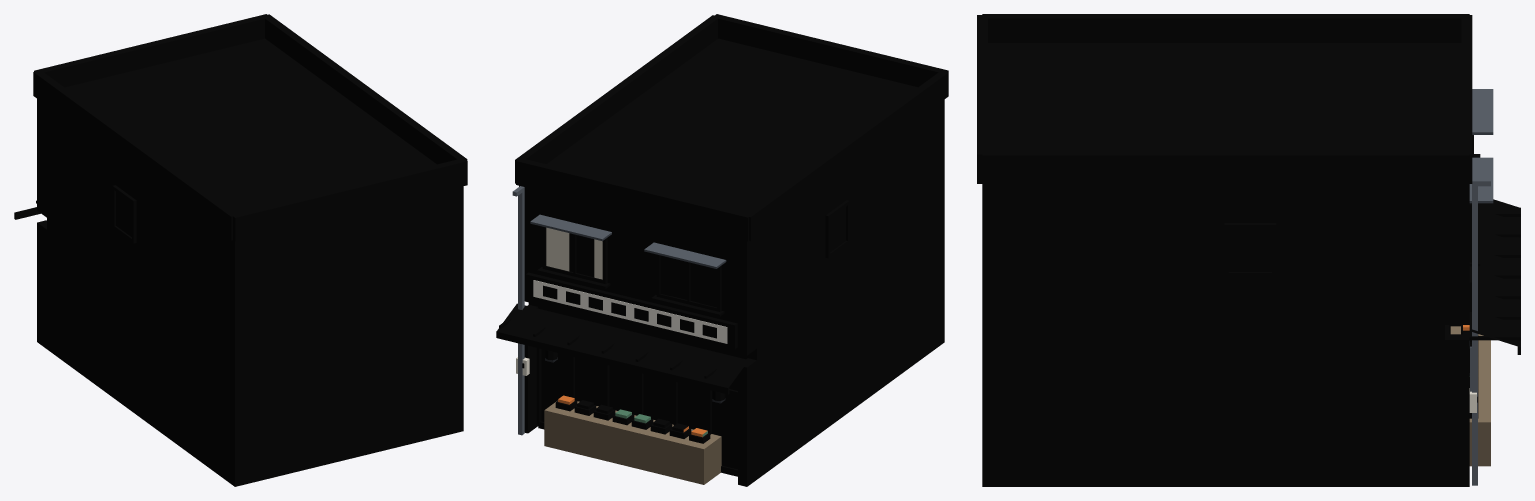
Rendered from Shop_A2.fbx.
The picture shows the model from 3 angles, left to right: view 1: azimuth 30°, elevation 25°; view 2: azimuth 150°, elevation 25°; view 3: azimuth 270°, elevation 25°; orthographic projection. The views are drawn at different scales.
Visible parts, largest first — view 1: RoofTop.007, BodyLow.005, BodyUp.005, Pilasters.004, WinFrame.018, Glass.018; view 2: RoofTop.007, BodyUp.005, BodyLow.005, Geya.003, LitGlassDim.009, ShopStall.002, Pilasters.004, WinFrame.018, SignBand.005, SignFace.004, Hoods.015, ShopFrame.003 (+8 smaller); view 3: RoofTop.007, BodyLow.005, BodyUp.005, Geya.003, Pilasters.004, Pipes.018, ShopStall.002, Glass.018, Hoods.015, WinFrame.018.
Part boxes in pixels (x1,y1,x2,y2): RoofTop.007: (33, 14, 467, 241); BodyLow.005: (47, 218, 463, 486); BodyUp.005: (37, 99, 463, 355); Pilasters.004: (37, 220, 46, 348); WinFrame.018: (112, 185, 136, 243); Glass.018: (116, 192, 131, 236); RoofTop.007: (515, 14, 948, 241); BodyUp.005: (519, 99, 944, 355); BodyLow.005: (528, 211, 944, 479); Geya.003: (496, 303, 748, 394); LitGlassDim.009: (541, 233, 737, 469); ShopStall.002: (544, 400, 721, 484); Pilasters.004: (524, 305, 756, 486); WinFrame.018: (537, 200, 849, 316); SignBand.005: (525, 272, 737, 349); SignFace.004: (533, 280, 727, 343); Hoods.015: (530, 214, 726, 268); ShopFrame.003: (536, 348, 737, 476); RoofTop.007: (977, 14, 1472, 185); BodyLow.005: (982, 325, 1444, 486); BodyUp.005: (982, 185, 1469, 324); Geya.003: (1469, 199, 1520, 354); Pilasters.004: (1445, 325, 1469, 486); Pipes.018: (1470, 179, 1490, 485); ShopStall.002: (1450, 326, 1490, 466); Glass.018: (1228, 229, 1477, 402); Hoods.015: (1469, 89, 1493, 203); WinFrame.018: (1224, 135, 1480, 276).
Bounding box in the file's own units: 6.2 × 6.8 × 10.05.
